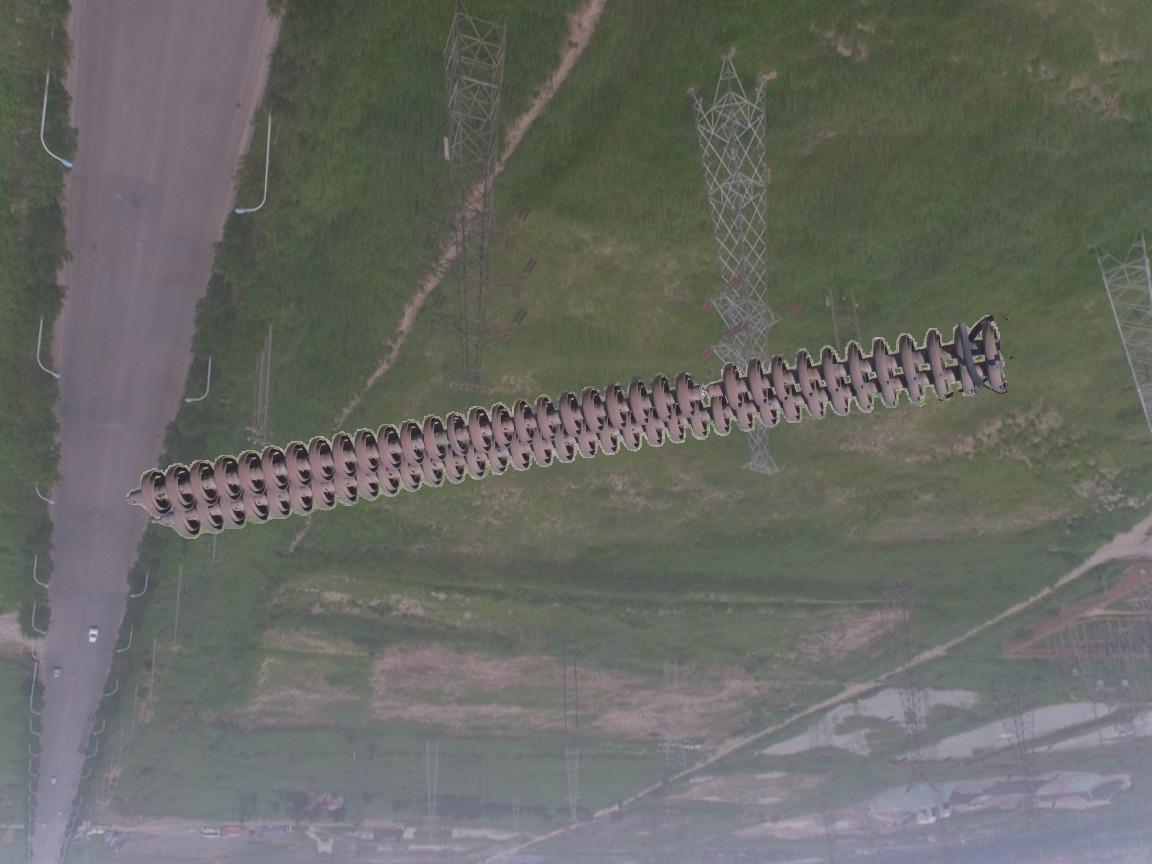insulator: (130, 312, 1020, 546)
insulator_stringdrop: (673, 361, 744, 420)
